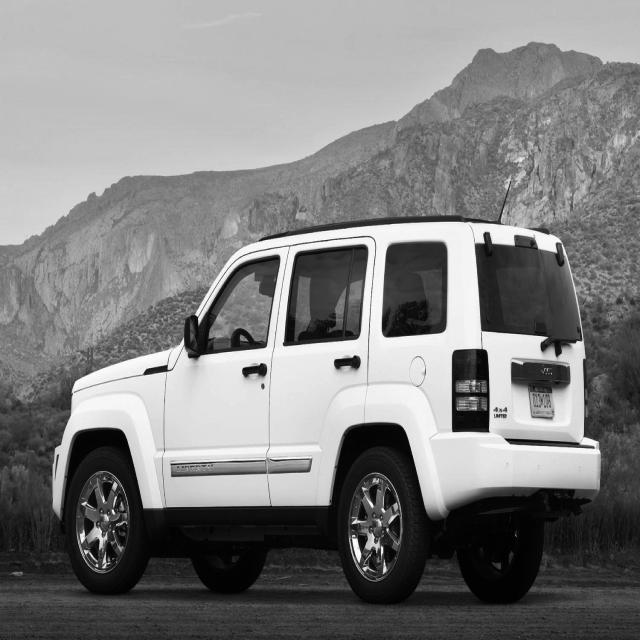car: (51, 208, 601, 605)
plat_license: (527, 382, 555, 418)
